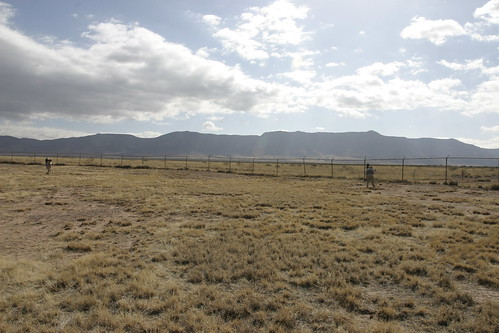grass: (13, 172, 499, 333)
mountain: (3, 123, 497, 156)
sky: (1, 1, 494, 127)
